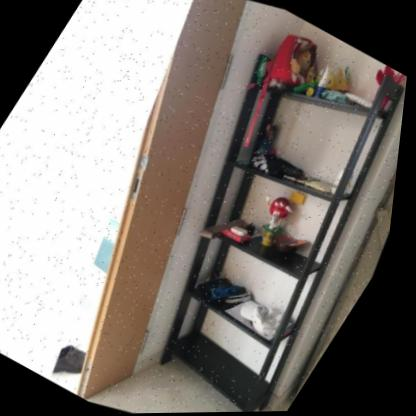Shelf: (58, 7, 415, 415)
